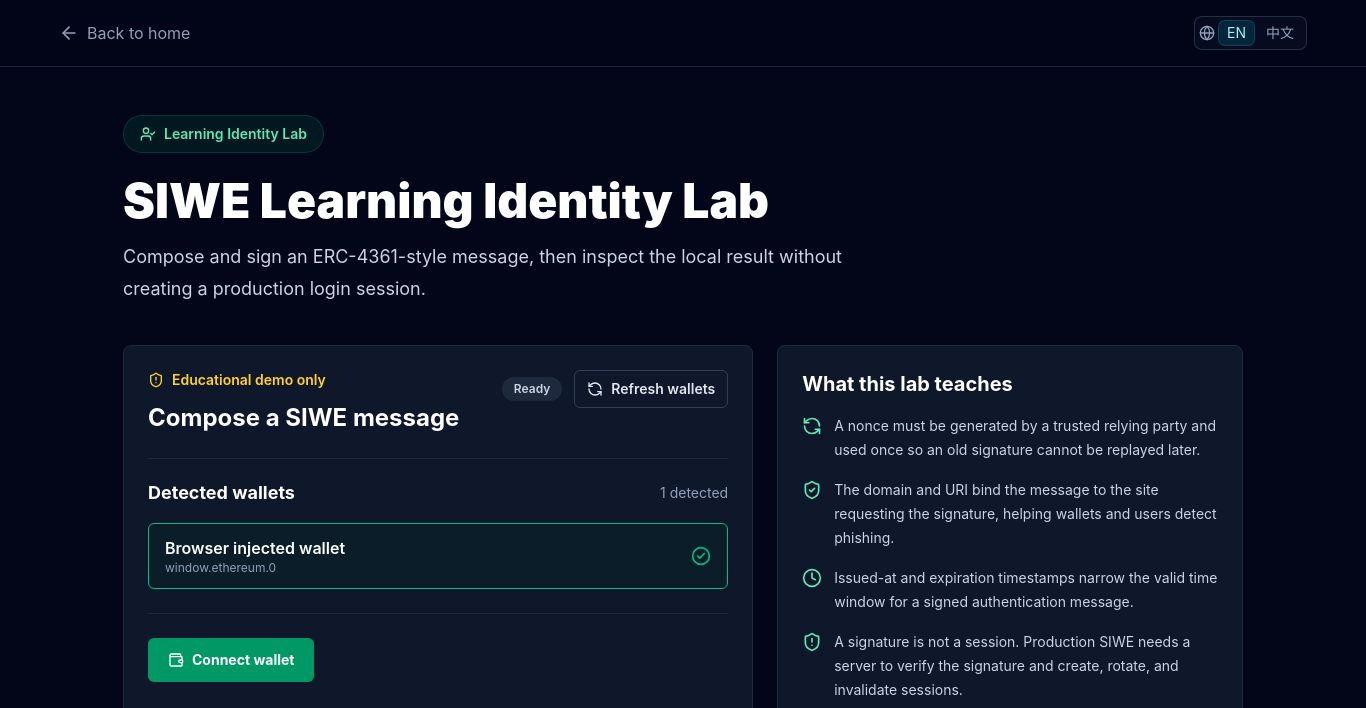
Test case: SiweLabPage › shows a wallet rejection error without keeping a signed result
Check: the text "Browser injected wallet" is shown, box [165,536,345,560]
Click the button "Connect wallet" at (231, 660), box [148,638,314,682]
(page scrolled)
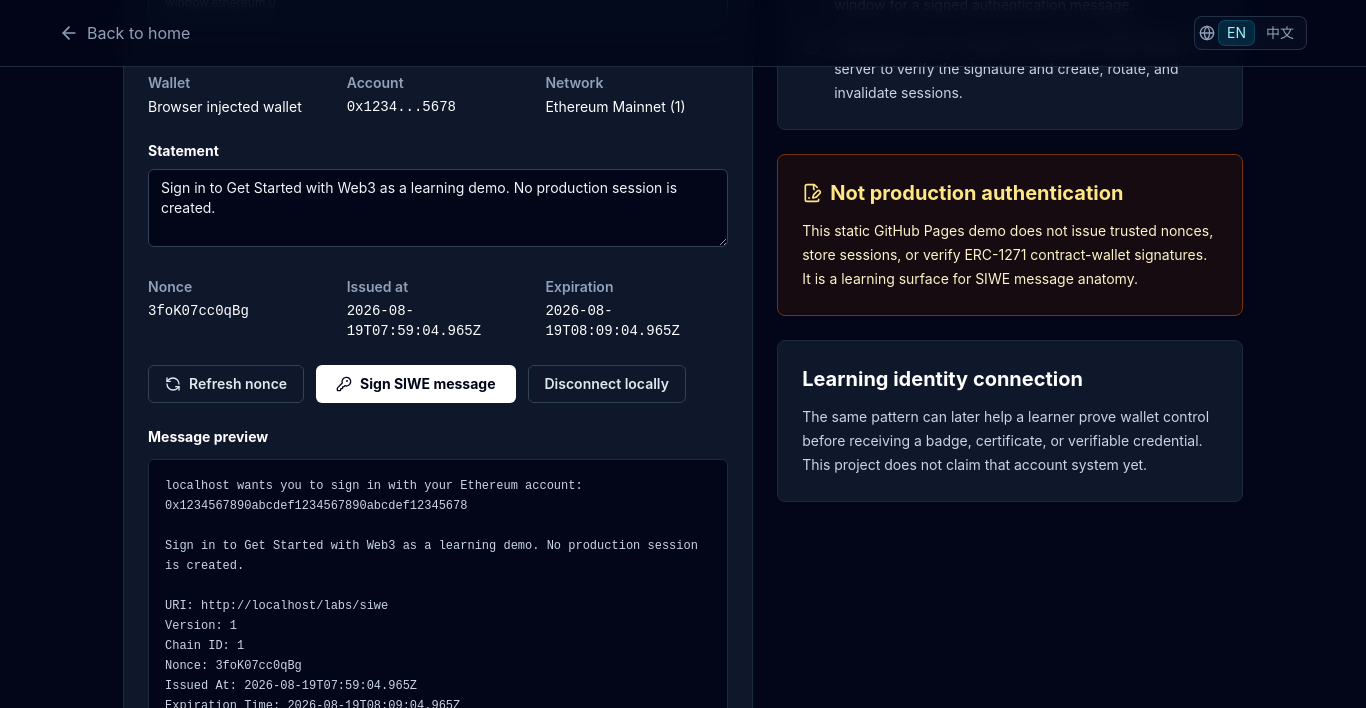
Check: the text "0x1234...5678" is shown, box [347,99,456,115]
Click the button "Sign SIWE message" at (416, 384), box [316,365,516,403]
(page scrolled)
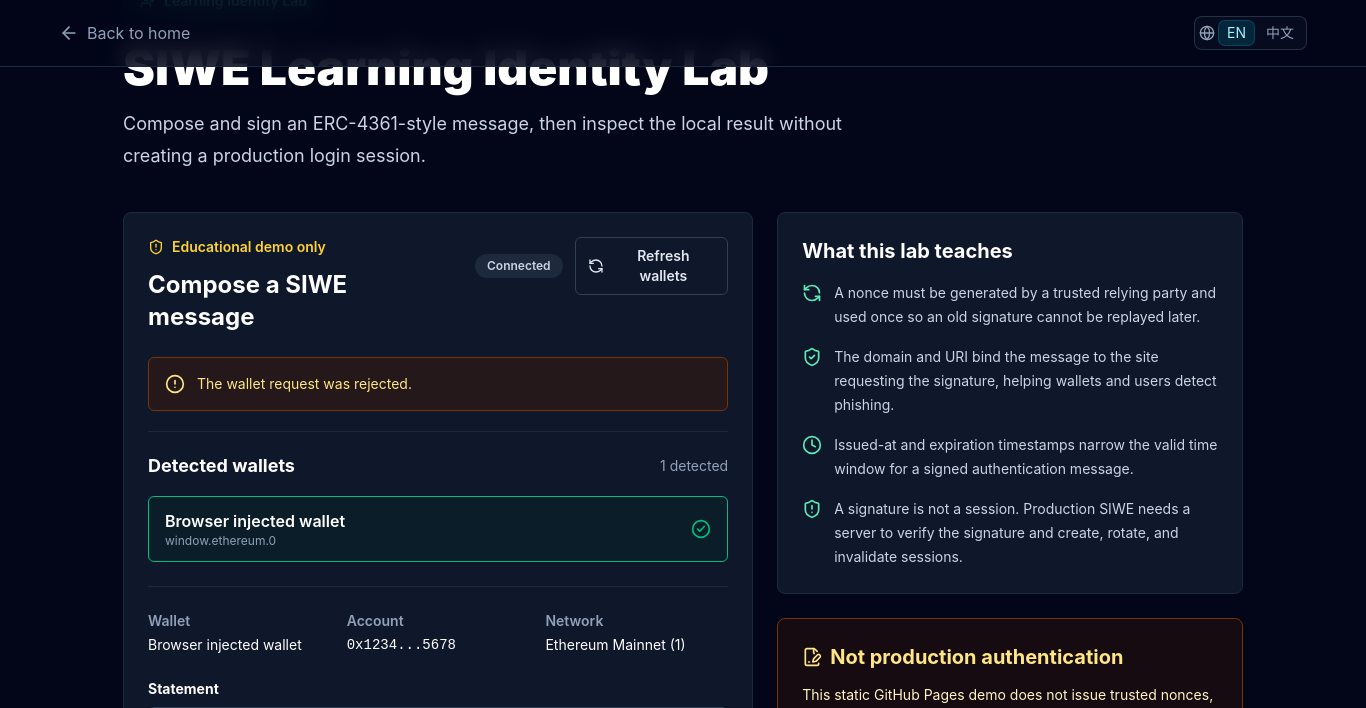
Check: the text "The wallet request was rejected." is shown, box [197,374,412,394]
